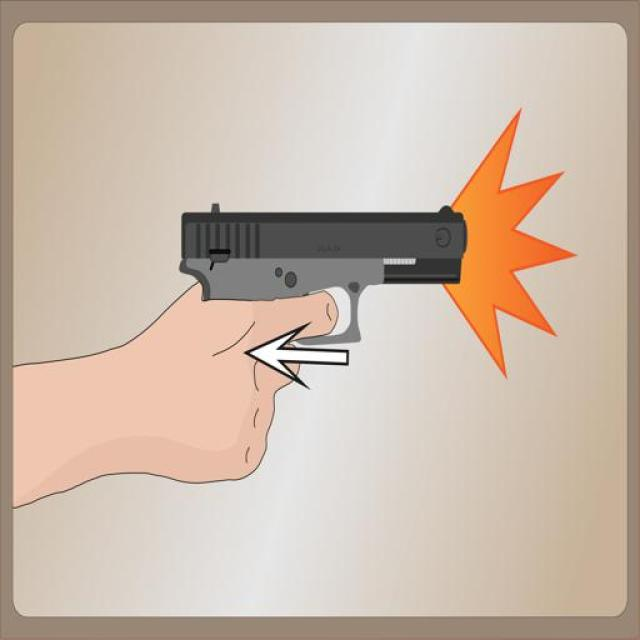pistol: (178, 193, 469, 349)
